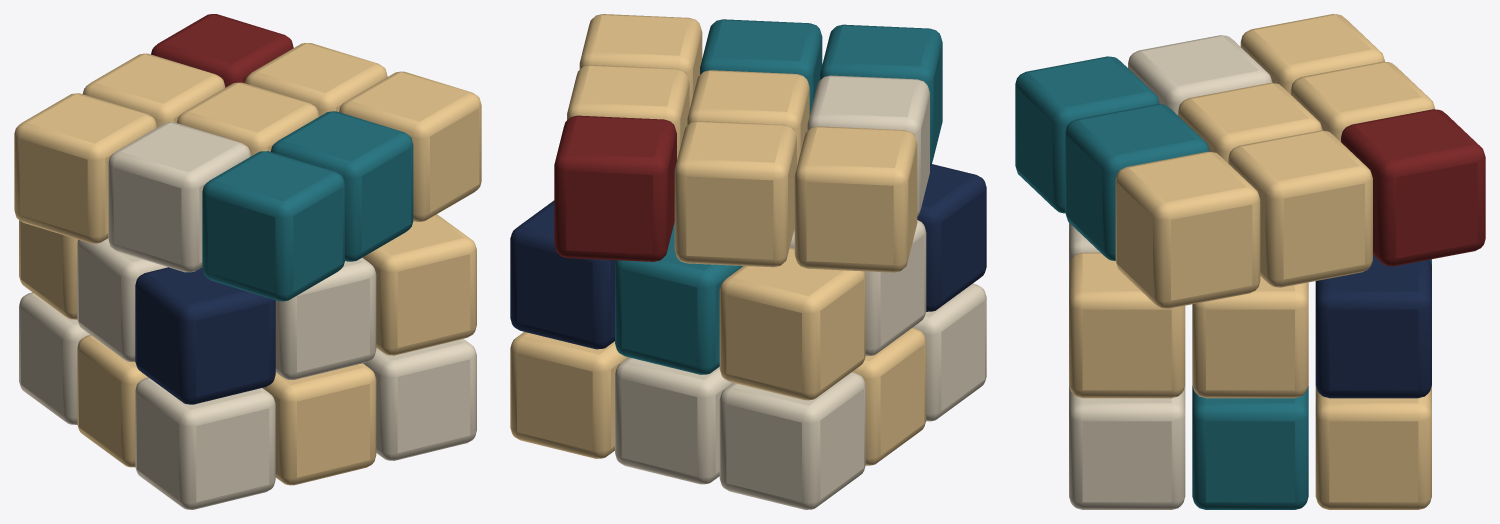
3 renders of one model, left to right at view 1: azimuth 30°, elevation 25°; view 2: azimuth 150°, elevation 25°; view 3: azimuth 270°, elevation 25°, orthographic. The views are drawn at different scales.
Parts seen in each view (by area): view 1: cubie.002, cubie.001, cubie, cubie.005, cubie.008, cubie.019, cubie.011, cubie.020, cubie.009, cubie.018, cubie.010, cubie.003 (+7 smaller); view 2: cubie.007, cubie.008, cubie.017, cubie.026, cubie.006, cubie.015, cubie.024, cubie.016, cubie.025, cubie.001, cubie.005, cubie.002 (+7 smaller); view 3: cubie.020, cubie.026, cubie.023, cubie.025, cubie.019, cubie.021, cubie.018, cubie.024, cubie.022, cubie.002, cubie.011, cubie.008 (+4 smaller).
Part boxes in pixels (x1,y1,x2,y2): cubie.002: (202,151,344,301); cubie.001: (135,267,275,404); cubie: (135,377,275,509); cubie.005: (108,122,250,272); cubie.008: (14,93,156,243); cubie.019: (362,214,476,355); cubie.011: (270,111,413,261); cubie.020: (339,71,481,221); cubie.009: (262,363,376,485); cubie.018: (363,339,476,460); cubie.010: (275,257,376,379); cubie.003: (77,335,148,467); cubie.007: (719,247,865,400); cubie.008: (794,126,917,272); cubie.017: (674,121,796,267); cubie.026: (554,115,676,261); cubie.006: (719,372,865,509); cubie.015: (615,357,732,484); cubie.024: (510,332,628,458); cubie.016: (615,222,742,374); cubie.025: (510,200,615,349); cubie.001: (917,164,986,311); cubie.005: (807,75,929,216); cubie.002: (820,24,942,165); cubie.020: (1115,151,1260,308); cubie.026: (1341,109,1485,266); cubie.023: (1228,130,1372,287); cubie.025: (1315,255,1431,398); cubie.019: (1069,252,1185,398); cubie.021: (1192,385,1308,509); cubie.018: (1069,385,1185,509); cubie.024: (1315,385,1431,509); cubie.022: (1192,276,1308,398); cubie.002: (1015,56,1159,213); cubie.011: (1065,104,1209,260); cubie.008: (1240,14,1385,93).
Bounding box in the file's own units: 1.21 × 0.936 × 1.21.
